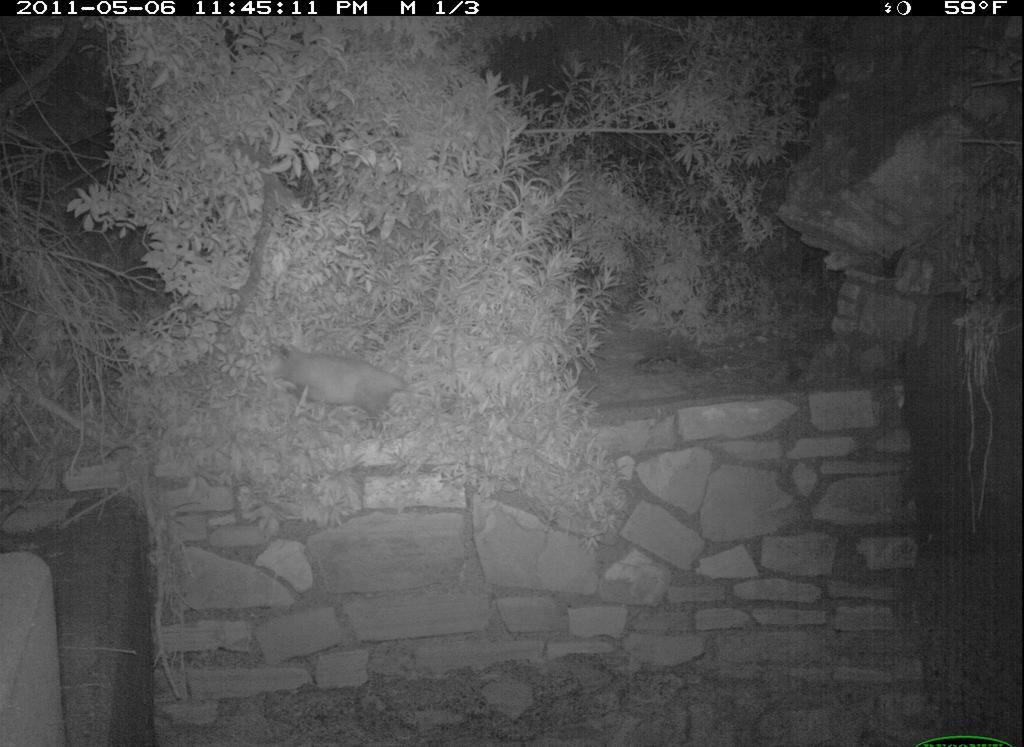opossum: (267, 331, 442, 437)
